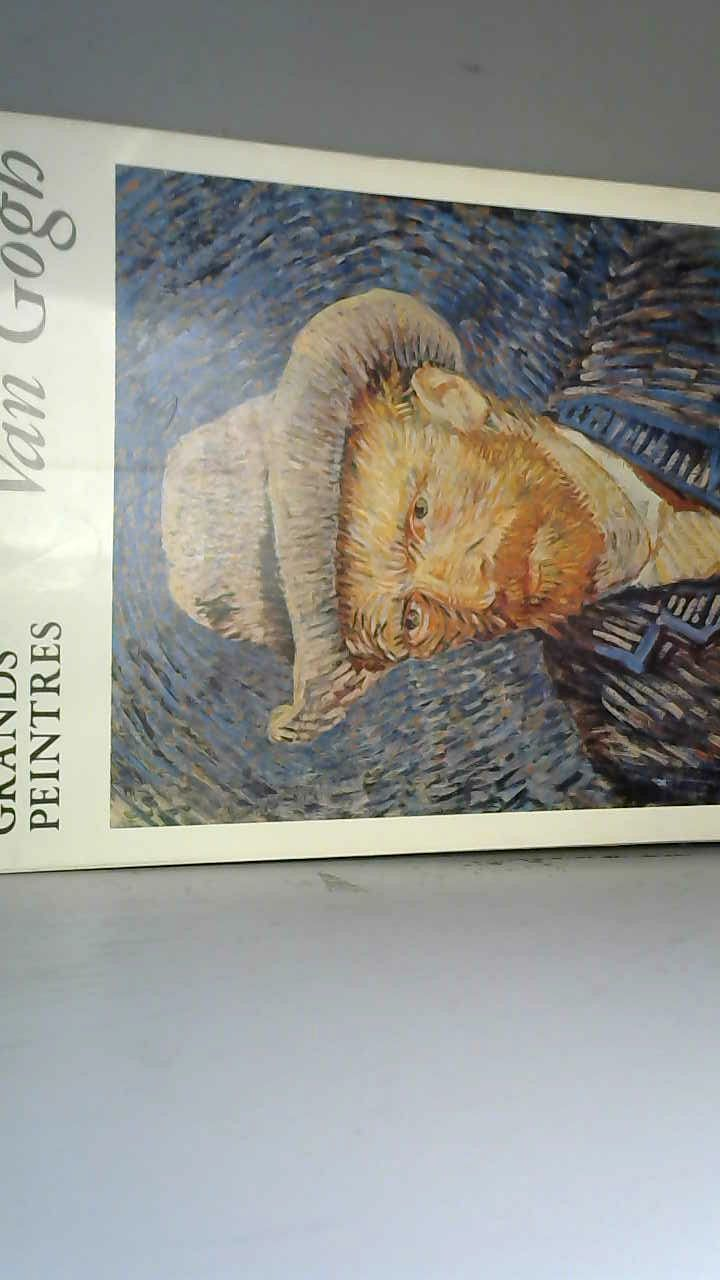book: (0, 88, 720, 895)
